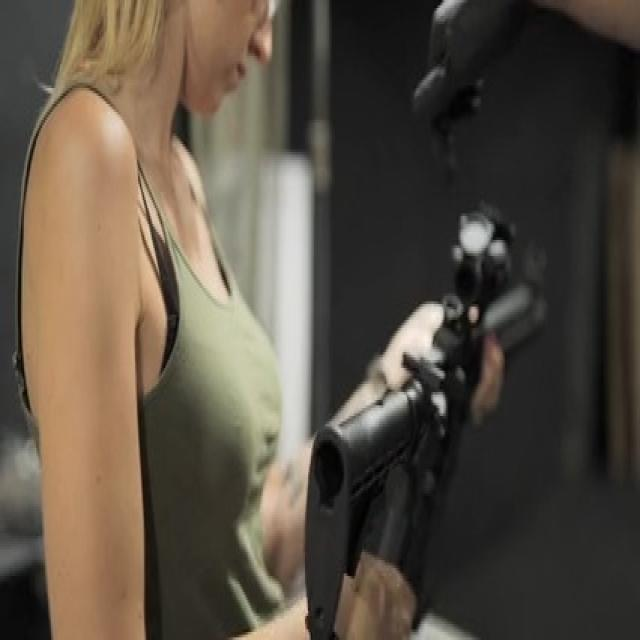Gun_Holder: (282, 201, 601, 640)
Person: (14, 0, 455, 640)
